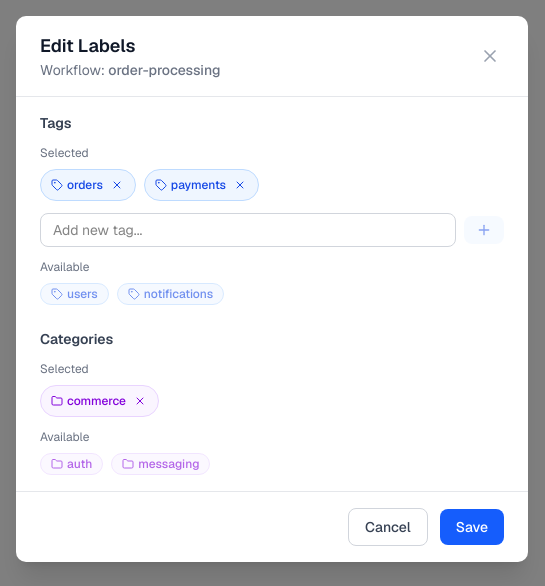
LabelEditor › tag management › allows adding a custom tag
Type "custom-tag" into the field with placeholder "Add new tag..." at (248, 230), box left=40, top=213, right=456, bottom=247
Then press Enter
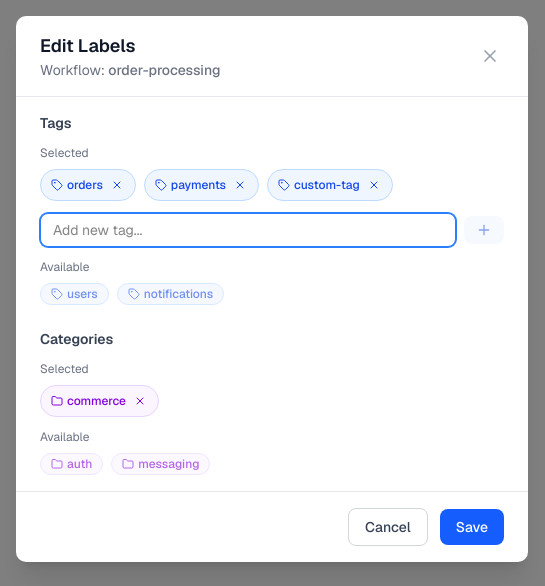
Check: the text "custom-tag" is shown, box left=294, top=177, right=360, bottom=193
